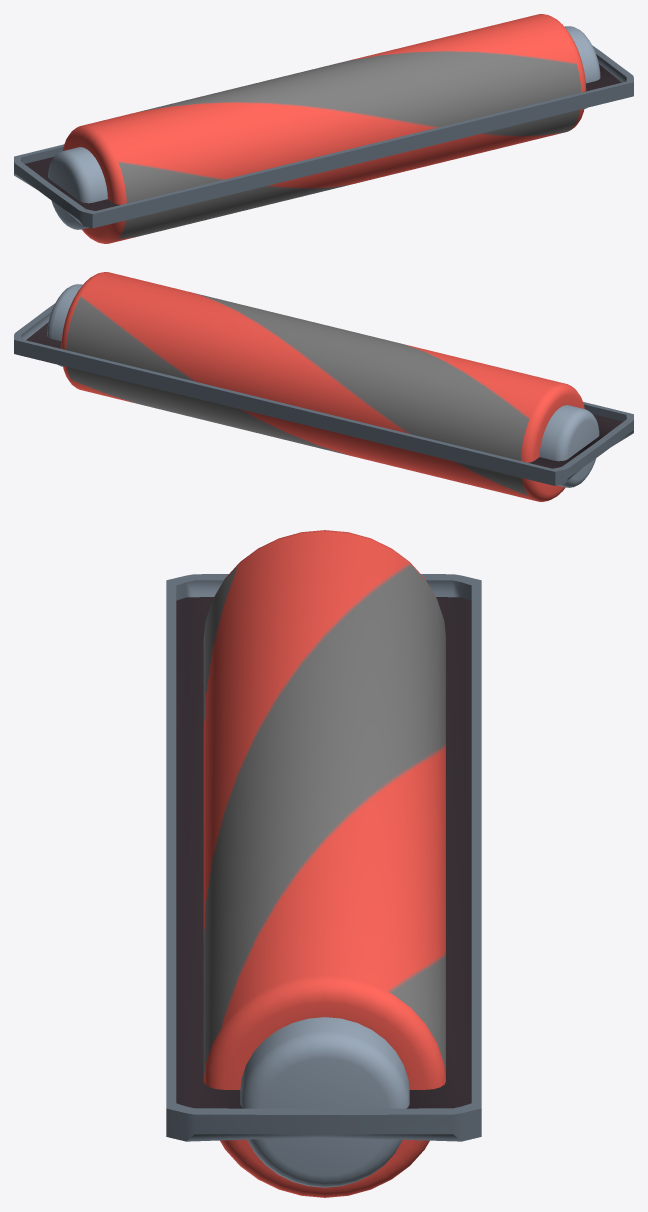
Rendered from HorizontalGrinderFlatLong.fbx.
3 views of the same model, one above another, from view 1: azimuth 30°, elevation 25°; view 2: azimuth 150°, elevation 25°; view 3: azimuth 270°, elevation 25° (orthographic). The views are drawn at different scales.
Visible parts, largest first — view 1: HorizontalGrinderLong.001, GrinderBaseLong.001; view 2: HorizontalGrinderLong.001, GrinderBaseLong.001; view 3: HorizontalGrinderLong.001, GrinderBaseLong.001.
Part boxes in pixels (box(x1,y1,x2,y2)): HorizontalGrinderLong.001: box(48, 14, 600, 243); GrinderBaseLong.001: box(14, 45, 633, 228); HorizontalGrinderLong.001: box(47, 272, 599, 501); GrinderBaseLong.001: box(14, 303, 633, 485); HorizontalGrinderLong.001: box(203, 530, 445, 1197); GrinderBaseLong.001: box(166, 574, 481, 1141).
Bounding box in the file's own units: 592 × 113 × 146.
